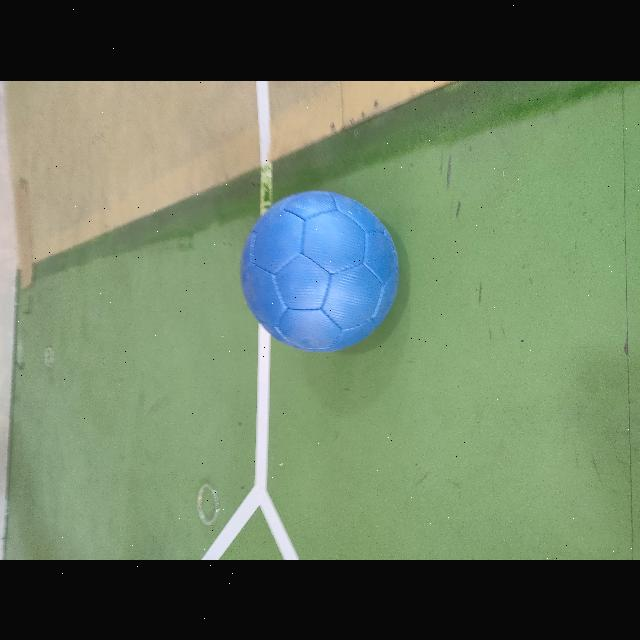B: (241, 190, 399, 352)
